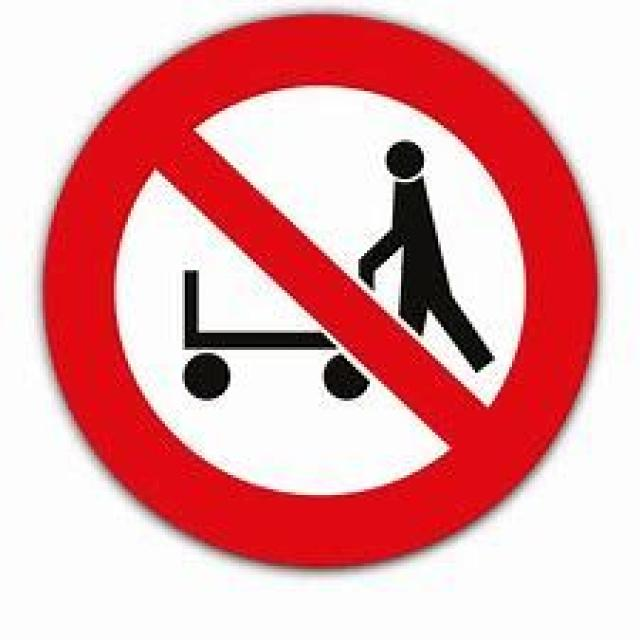railway_crossing: (40, 9, 597, 563)
